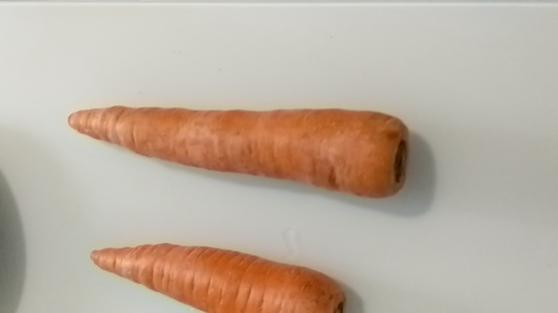carrot: (63, 97, 415, 202), (86, 237, 350, 313)
